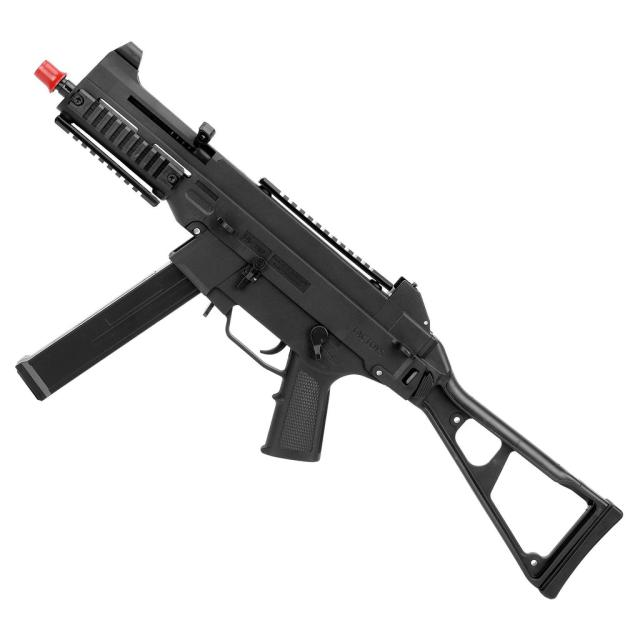Gun: (26, 44, 600, 605)
